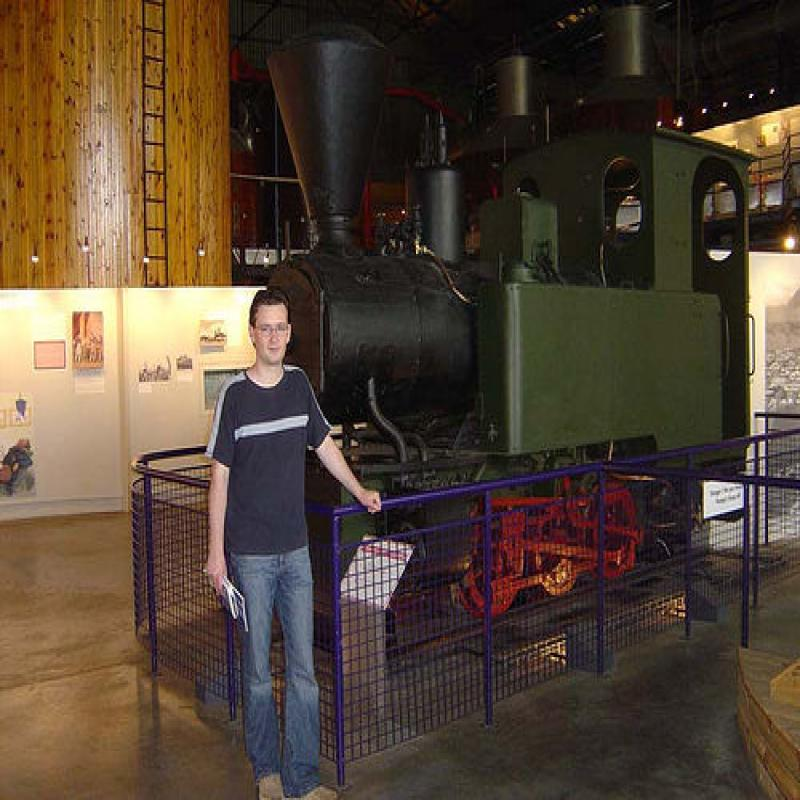train: (267, 1, 763, 624)
